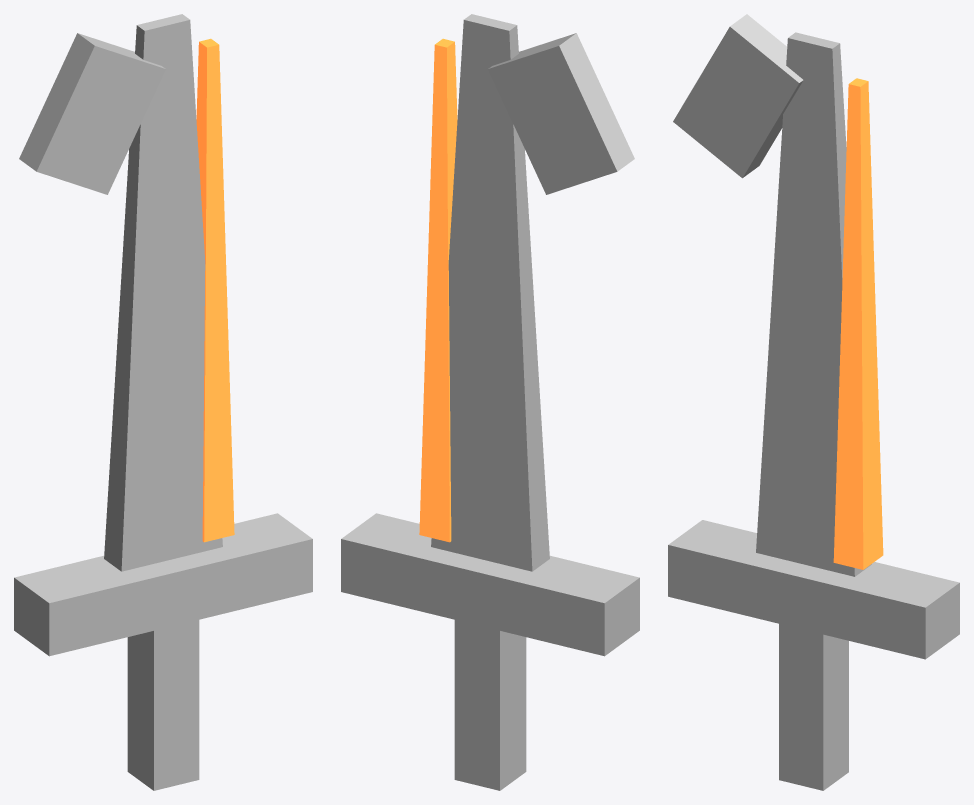
Rendered from legendary_cindermaw.glb.
The picture shows the model from 3 angles, left to right: view 1: azimuth 30°, elevation 25°; view 2: azimuth 150°, elevation 25°; view 3: azimuth 330°, elevation 25°; orthographic projection. The views are drawn at different scales.
Visible parts, largest first — view 1: legendary_cindermaw; view 2: legendary_cindermaw; view 3: legendary_cindermaw.
Part boxes in pixels (x1,y1,x2,y2): legendary_cindermaw: (14,14,312,790); legendary_cindermaw: (341,14,639,790); legendary_cindermaw: (668,14,959,790).
Bounding box in the file's own units: 0.2639 × 0.7118 × 0.06.
